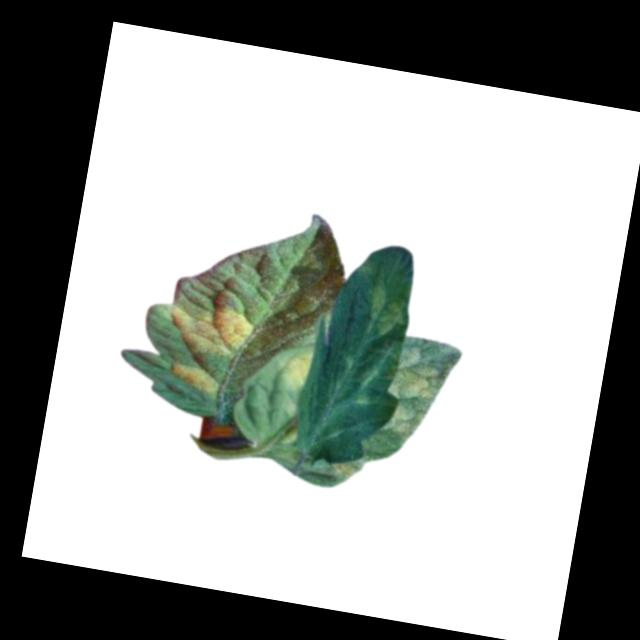Leaf_Mold: (379, 342, 455, 449), (162, 298, 256, 363), (358, 275, 410, 340), (164, 359, 222, 399), (274, 346, 317, 390), (325, 454, 360, 485)
